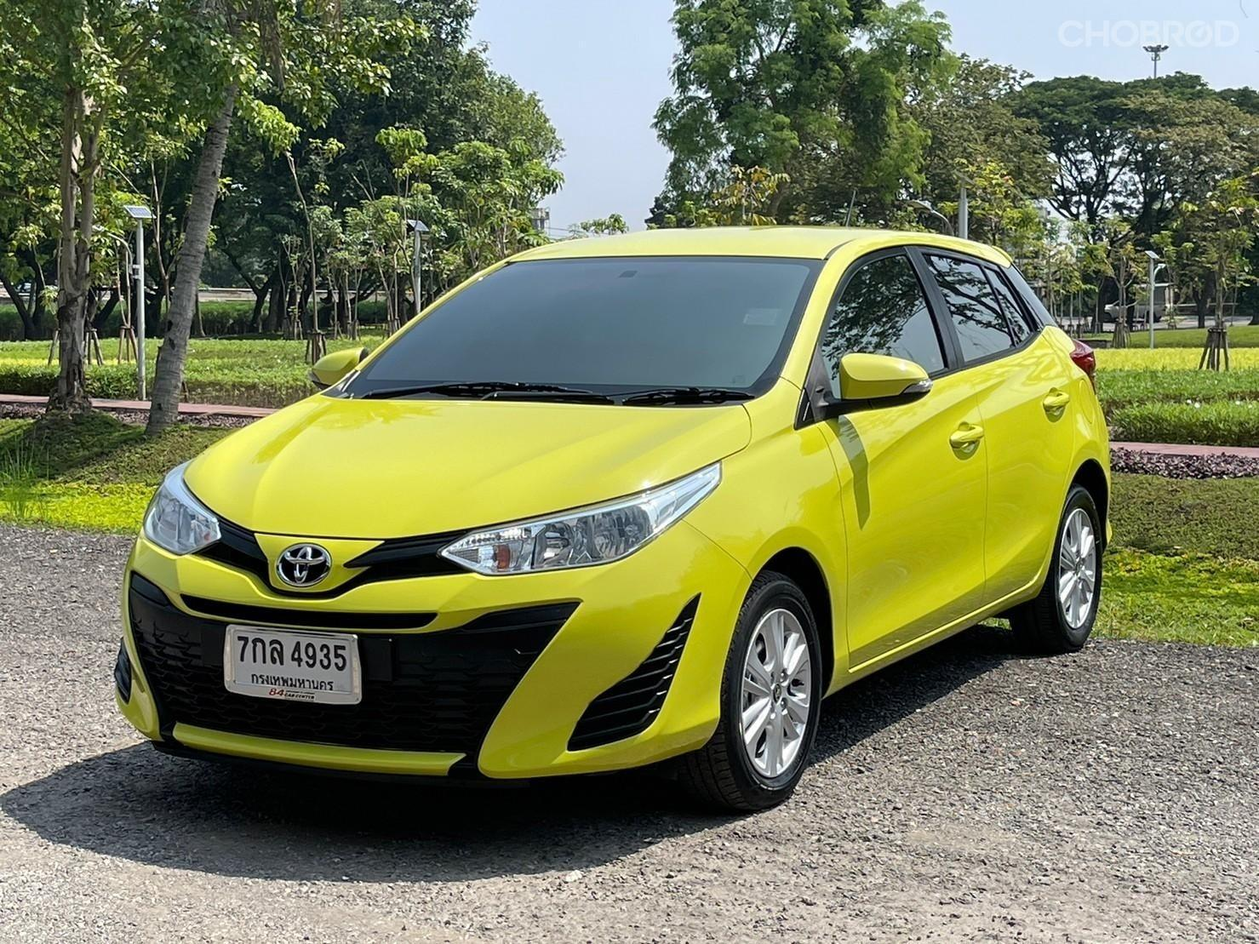license-plate: (222, 621, 368, 705)
